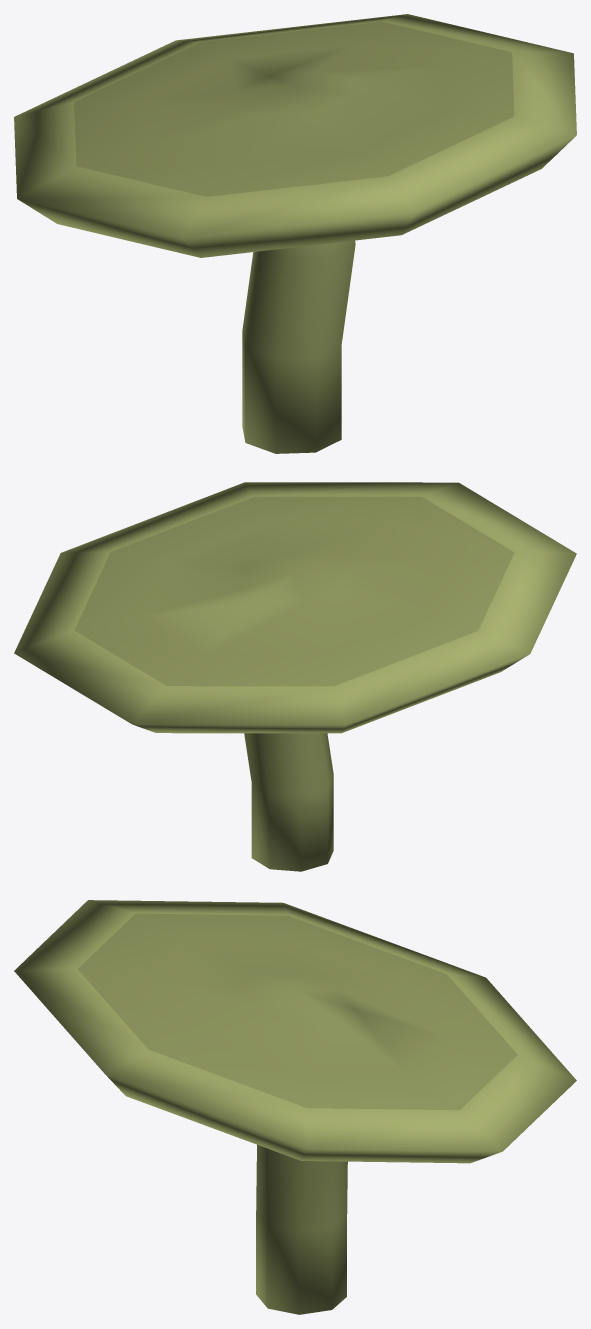
The model's file is ZelenushkaMushroom.fbx.
3 views of the same model, one above another, from view 1: azimuth 30°, elevation 25°; view 2: azimuth 150°, elevation 25°; view 3: azimuth 270°, elevation 25° (orthographic). The views are drawn at different scales.
Parts seen in each view (by area): view 1: Cone.001; view 2: Cone.001; view 3: Cone.001.
Part boxes in pixels (x1,y1,x2,y2): Cone.001: (14,14,576,453); Cone.001: (14,482,576,871); Cone.001: (14,900,576,1314).
Size of the model in its own units: 27.74 by 16.66 by 27.18.
